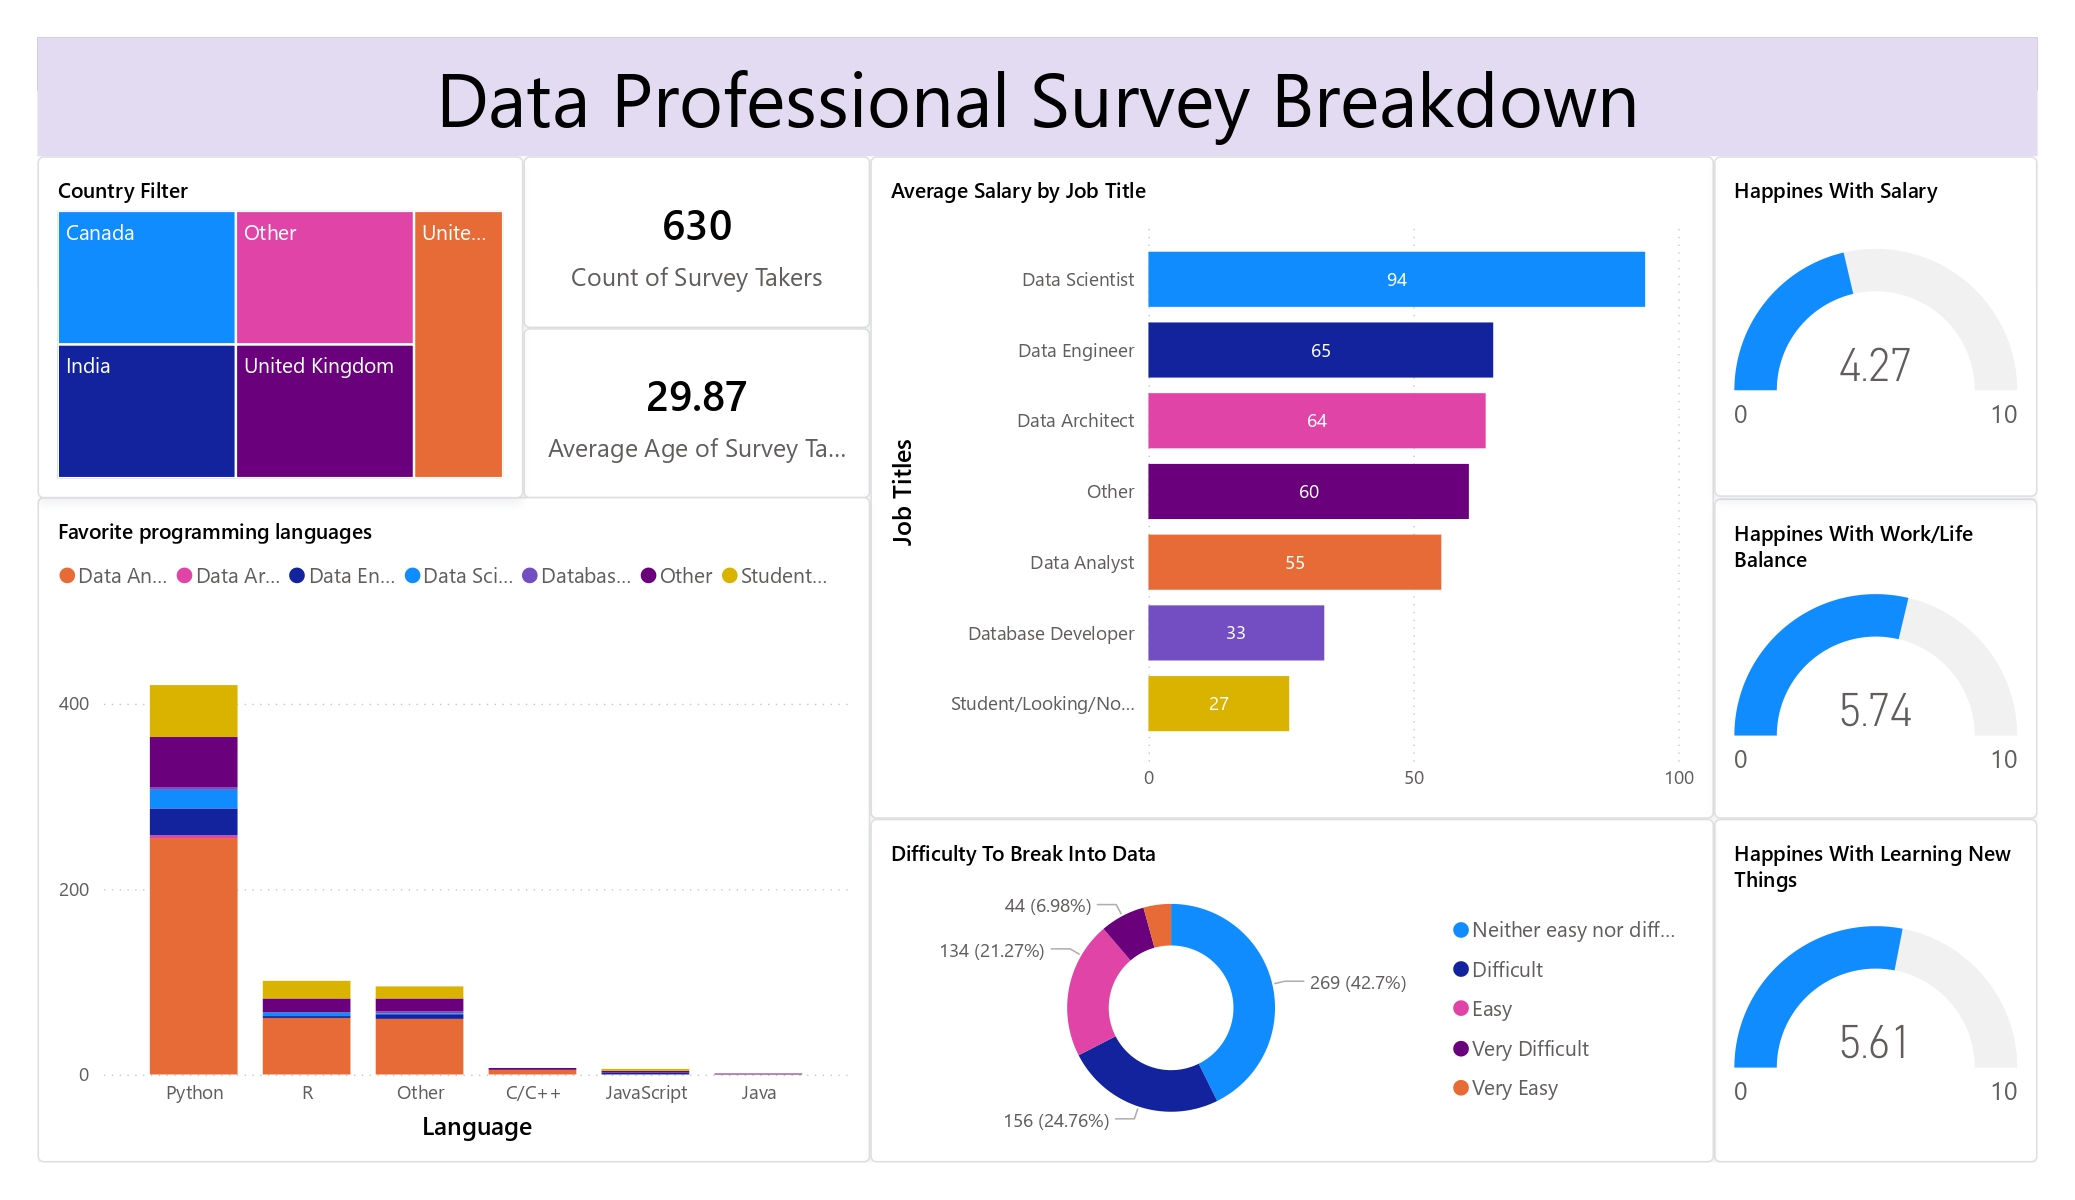

Layout of this report page (visuals, bound fields, positions):
{"tool":"powerbi","page":{"name":"Page 1","canvas":[1280,720],"ordinal":0},"visuals":[{"type":"textbox","box":[0,0,1280,75.7],"z":0},{"type":"card","fields":{"Values":["Count(Data Professional Survey.Unique ID)"]},"box":[311.1,75.7,221.7,110.3],"z":1000},{"type":"card","fields":{"Values":["Avg(Data Professional Survey.Q10 - Current Age)"]},"box":[311.1,186,221.7,109.3],"z":2000},{"type":"barChart","title":"Average Salary by Job Title","fields":{"Category":["Data Professional Survey.Q1 - Which Title Best Fits your Current Role?.1"],"Y":["Avg(Data Professional Survey.Average Salary)"],"Series":["Data Professional Survey.Q1 - Which Title Best Fits your Current Role?.1"]},"box":[532.8,75.7,540.2,424.6],"z":3000},{"type":"columnChart","title":"Favorite programming languages","fields":{"Category":["Data Professional Survey.Q5 - Favorite Programming Language.1"],"Y":["CountNonNull(Data Professional Survey.Unique ID)"],"Series":["Data Professional Survey.Q1 - Which Title Best Fits your Current Role?.1"]},"box":[0,294.3,532.8,425.6],"z":4000},{"type":"treemap","title":"Country Filter","fields":{"Group":["Data Professional Survey.Q11 - Which Country do you live in?.1"],"Values":["Count(Data Professional Survey.Q11 - Which Country do you live in?.1)"]},"box":[0,75.7,311.1,219.6],"z":5000},{"type":"gauge","title":"Happines With Work/Life Balance","fields":{"Y":["Avg(Data Professional Survey.Q6 - How Happy are you in your Current Position with the following? (Work/Life Balance))"],"MinValue":["Min(Data Professional Survey.Q6 - How Happy are you in your Current Position with the following? (Work/Life Balance))1"],"MaxValue":["Max(Data Professional Survey.Q6 - How Happy are you in your Current Position with the following? (Work/Life Balance))2"]},"box":[1073,295.3,207,204.9],"z":6000},{"type":"gauge","title":"Happines With Salary","fields":{"Y":["Avg(Data Professional Survey.Q6 - How Happy are you in your Current Position with the following? (Salary))"],"MinValue":["Min(Data Professional Survey.Q6 - How Happy are you in your Current Position with the following? (Salary))"],"MaxValue":["Max(Data Professional Survey.Q6 - How Happy are you in your Current Position with the following? (Salary))1"]},"box":[1073,75.7,207,218.6],"z":7000},{"type":"gauge","title":"Happines With Learning New Things","fields":{"Y":["Avg(Data Professional Survey.Q6 - How Happy are you in your Current Position with the following? (Learning New Things))"],"MaxValue":["Max(Data Professional Survey.Q6 - How Happy are you in your Current Position with the following? (Learning New Things))"],"MinValue":["Min(Data Professional Survey.Q6 - How Happy are you in your Current Position with the following? (Learning New Things))"]},"box":[1073,500.2,207,219.6],"z":8000},{"type":"donutChart","title":"Difficulty To Break Into Data","fields":{"Category":["Data Professional Survey.Q7 - How difficult was it for you to break into Data?"],"Y":["CountNonNull(Data Professional Survey.Unique ID)"]},"box":[532.8,500.2,540.2,219.6],"z":9000}]}

Visuals, with their boxes on the page's 1280x720 design canvas (x1, y1, x2, y2). These are canvas units, not pixel positions in the 2075x1200 screenshot, which may show the page scaled, cropped or inside an application window:
textbox: [x1=0, y1=0, x2=1280, y2=76]
card - Count(Data Professional Survey.Unique ID): [x1=311, y1=76, x2=533, y2=186]
card - Avg(Data Professional Survey.Q10 - Current Age): [x1=311, y1=186, x2=533, y2=295]
"Average Salary by Job Title" barChart: [x1=533, y1=76, x2=1073, y2=500]
"Favorite programming languages" columnChart: [x1=0, y1=294, x2=533, y2=720]
"Country Filter" treemap: [x1=0, y1=76, x2=311, y2=295]
"Happines With Work/Life Balance" gauge: [x1=1073, y1=295, x2=1280, y2=500]
"Happines With Salary" gauge: [x1=1073, y1=76, x2=1280, y2=294]
"Happines With Learning New Things" gauge: [x1=1073, y1=500, x2=1280, y2=720]
"Difficulty To Break Into Data" donutChart: [x1=533, y1=500, x2=1073, y2=720]
